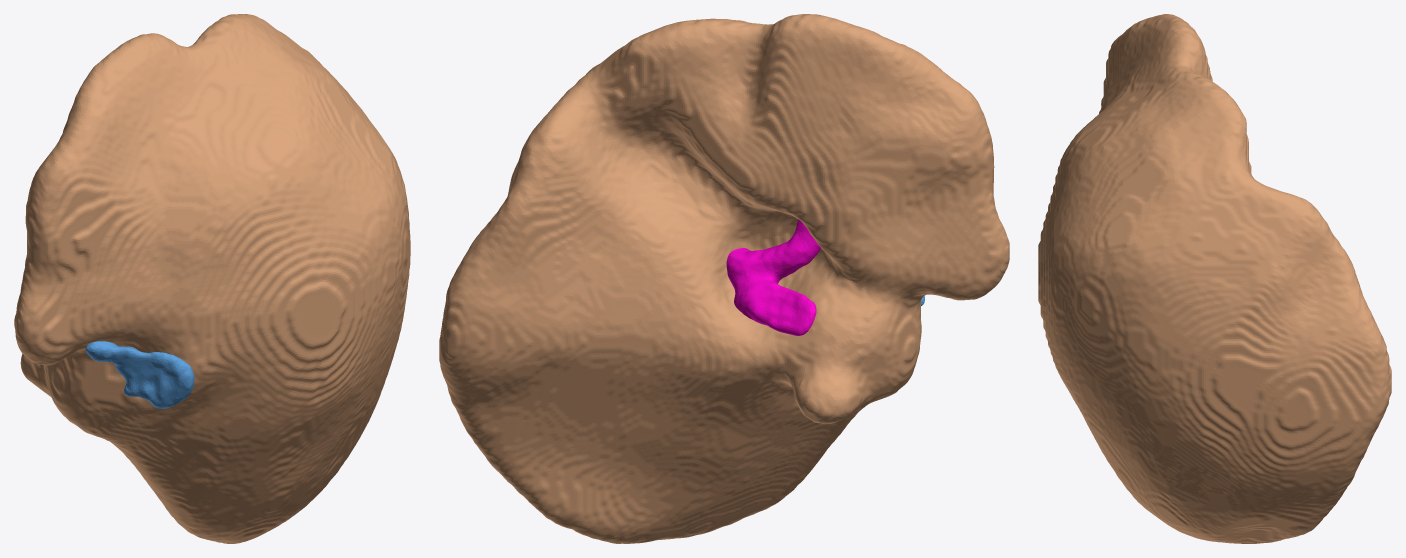
3 views of the same model, side by side, from view 1: azimuth 30°, elevation 25°; view 2: azimuth 150°, elevation 25°; view 3: azimuth 270°, elevation 25° (orthographic). The views are drawn at different scales.
Visible parts, largest first — view 1: Liver Hígado, Venas Hepáticas; view 2: Liver Hígado, Vasos Portales; view 3: Liver Hígado.
Boxes of the visible parts, x1=… form: Liver Hígado: x1=14, y1=14, x2=410, y2=543; Venas Hepáticas: x1=85, y1=341, x2=194, y2=408; Liver Hígado: x1=439, y1=14, x2=1009, y2=543; Vasos Portales: x1=726, y1=219, x2=820, y2=335; Liver Hígado: x1=1038, y1=14, x2=1391, y2=543.
Bounding box in the file's own units: 0.1768 × 0.211 × 0.1461.
